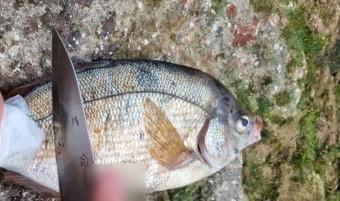fish: (0, 59, 264, 197)
